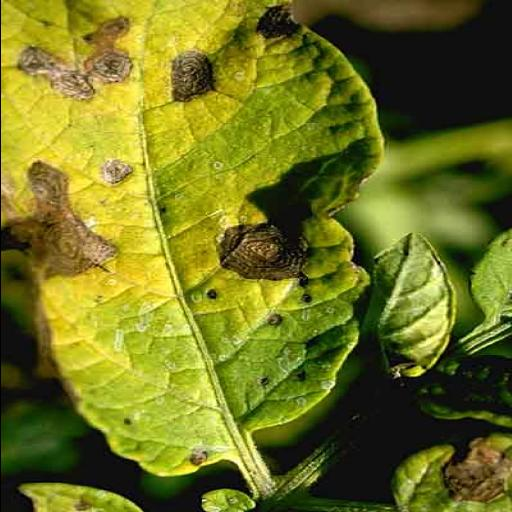Early Blight: (0, 0, 379, 481)
